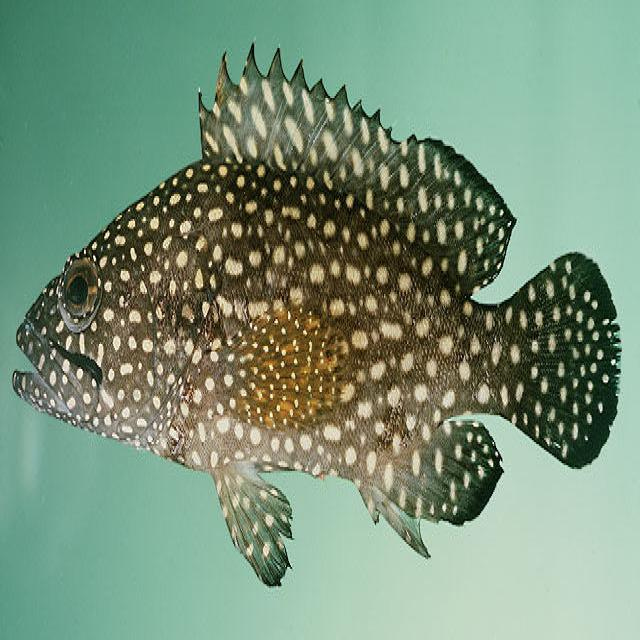ikan: (9, 23, 630, 603)
